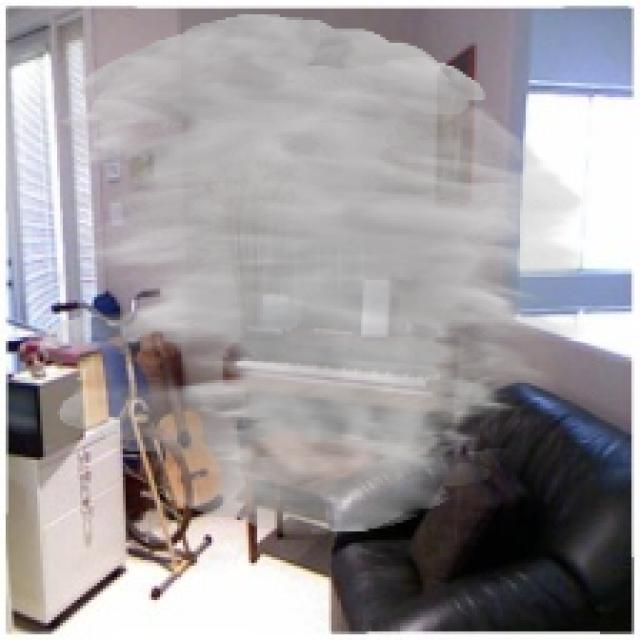smoke: (37, 14, 586, 534)
